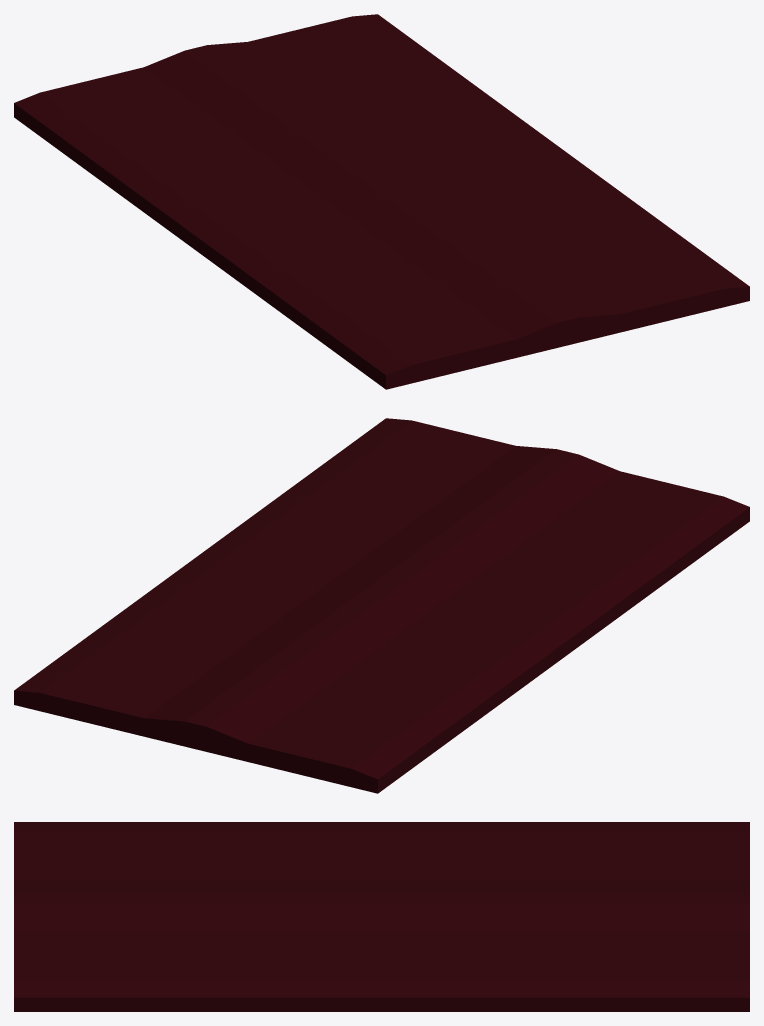
Rendered from LP_PasarelaPuente.fbx.
The picture shows the model from 3 angles, top to bottom: view 1: azimuth 30°, elevation 25°; view 2: azimuth 150°, elevation 25°; view 3: azimuth 270°, elevation 25°; orthographic projection.
Visible parts, largest first — view 1: PlataformaDeslizante; view 2: PlataformaDeslizante; view 3: PlataformaDeslizante.
Boxes of the visible parts, <box> form: PlataformaDeslizante: <box>14,14,749,389</box>; PlataformaDeslizante: <box>14,418,749,793</box>; PlataformaDeslizante: <box>14,822,749,1011</box>.
Size of the model in its own units: 445 by 29.35 by 788.
